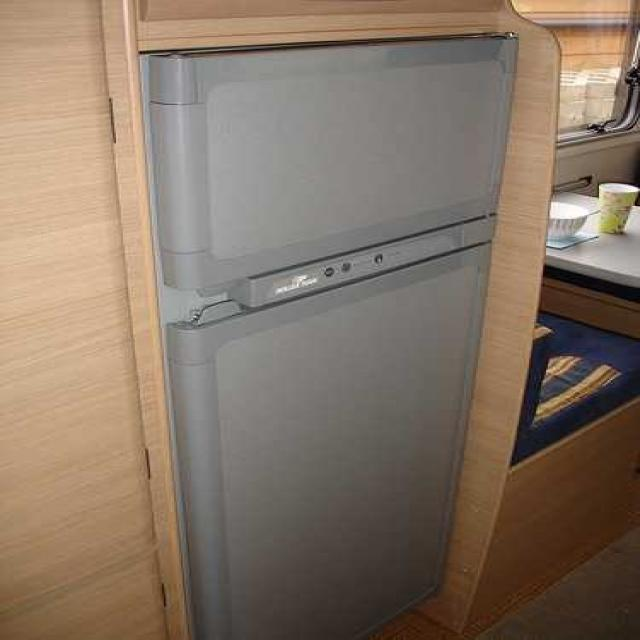refrigerator: (136, 51, 508, 640)
